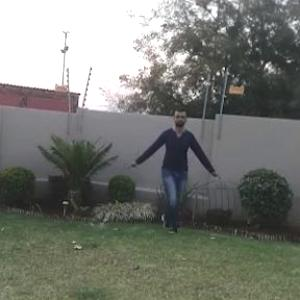land: (127, 110, 223, 236)
